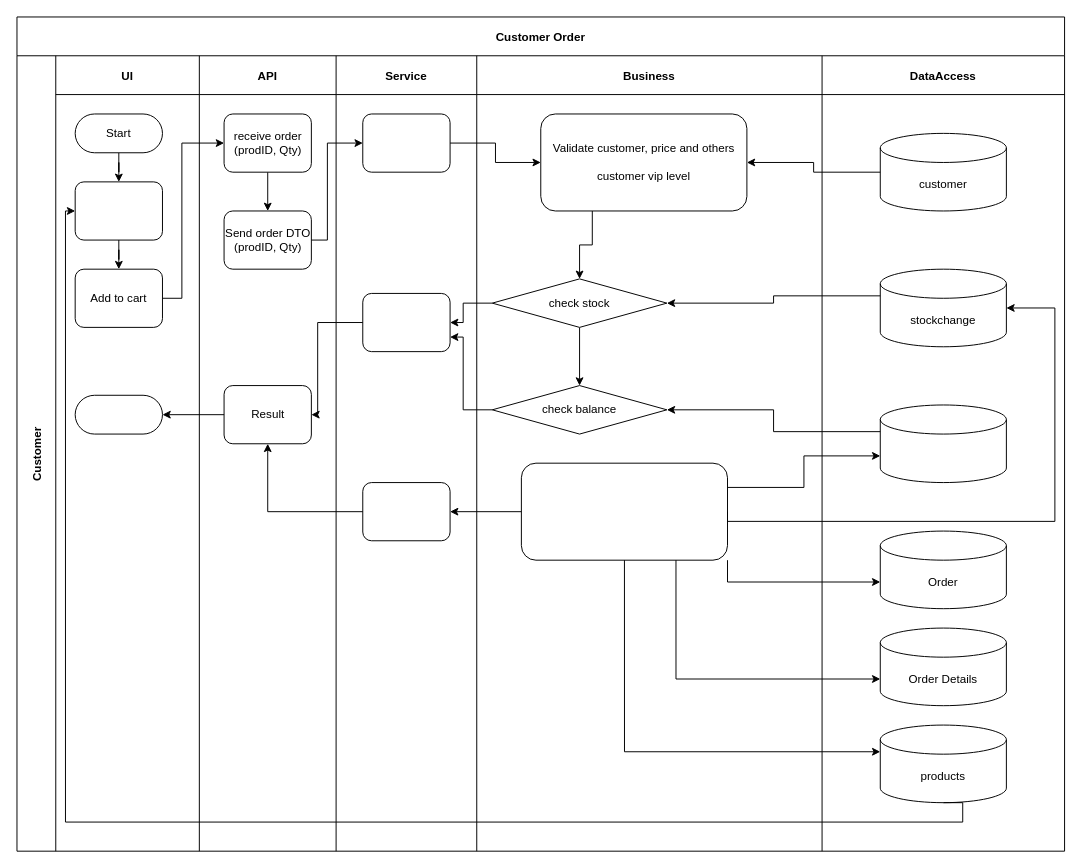
The diagram is 1082 pixels wide and 868 high, and some of its shapes have lost their labels. The box of each missing label's shape, as (x1, y1, x2, y2) in pixels:
-- stock --balance Create Order create order details create stock change: (520, 462, 728, 560)
accounts: (879, 404, 1006, 483)
End: (74, 394, 162, 434)
Error: (362, 292, 450, 352)
GetProducts: (74, 181, 162, 240)
Process Order: (362, 113, 450, 172)
Success: (362, 482, 450, 541)
